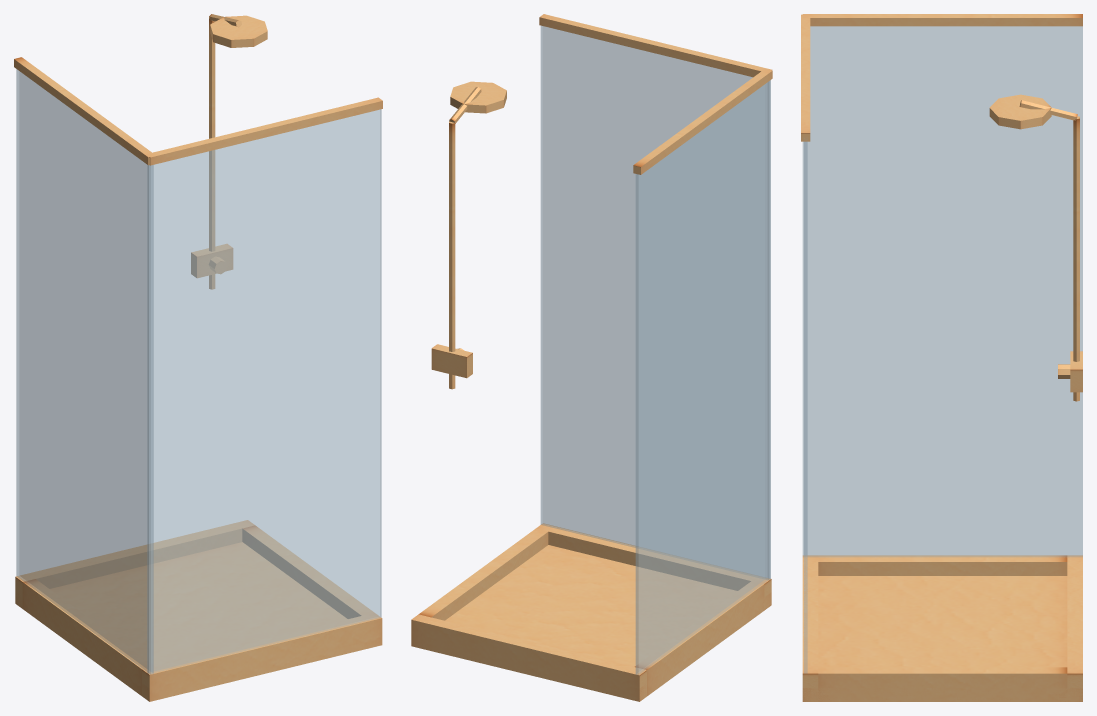
File: Shower.fbx
3 renders of one model, left to right at view 1: azimuth 30°, elevation 25°; view 2: azimuth 150°, elevation 25°; view 3: azimuth 270°, elevation 25°, orthographic. The views are drawn at different scales.
Visible parts, largest first — view 1: Shower; view 2: Shower; view 3: Shower.
Part boxes in pixels (bbox=[...]): Shower: bbox=[14, 14, 382, 701]; Shower: bbox=[411, 14, 772, 701]; Shower: bbox=[801, 14, 1082, 701].
Bounding box in the file's own units: 0.905 × 2.06 × 0.905.
